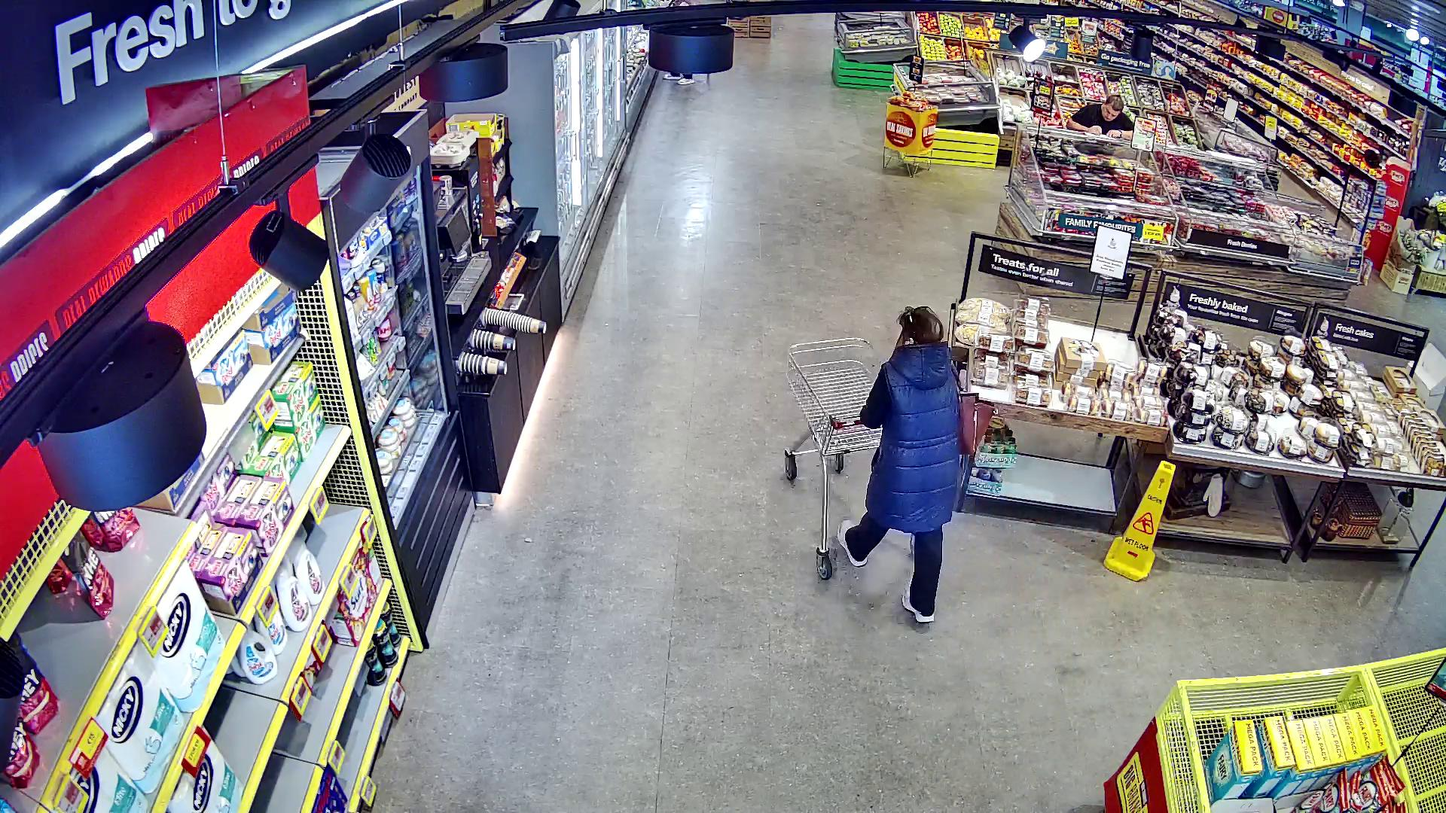backpack-or-handbag: (959, 387, 997, 455)
empty-trolly: (784, 336, 885, 581)
person: (836, 307, 962, 622)
person-with-basket-trolly-and-backpack-handbag: (785, 307, 996, 625)
